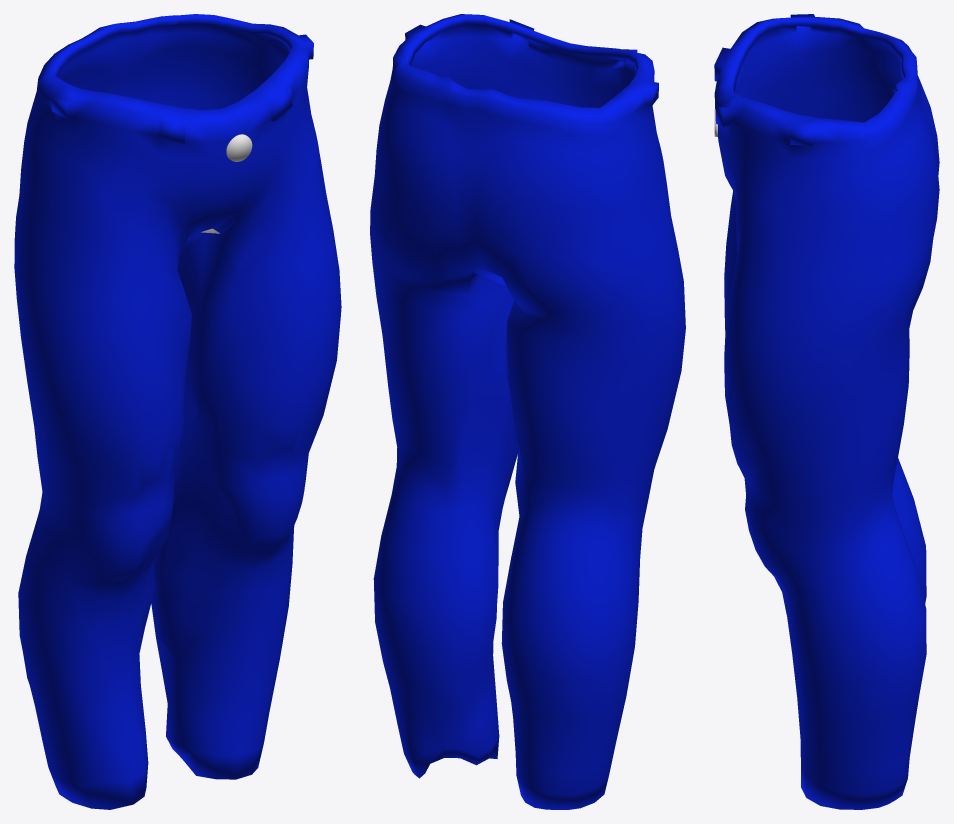
The model's file is cloth_jeans.fbx.
3 views of the same model, side by side, from view 1: azimuth 30°, elevation 25°; view 2: azimuth 150°, elevation 25°; view 3: azimuth 270°, elevation 25° (orthographic). The views are drawn at different scales.
Visible parts, largest first — view 1: Pants; view 2: Pants; view 3: Pants.
Part boxes in pixels (bbox=[...]): Pants: bbox=[14, 14, 341, 809]; Pants: bbox=[370, 14, 685, 809]; Pants: bbox=[714, 14, 939, 809].
Bounding box in the file's own units: 368 × 885 × 256.
